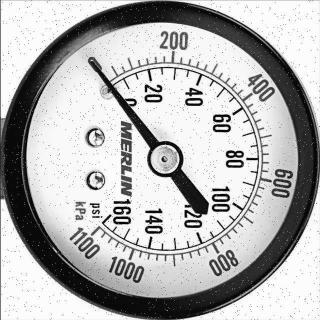gauge: (0, 0, 320, 320), (66, 196, 132, 260), (79, 50, 123, 106), (147, 141, 184, 177), (86, 57, 104, 76)
